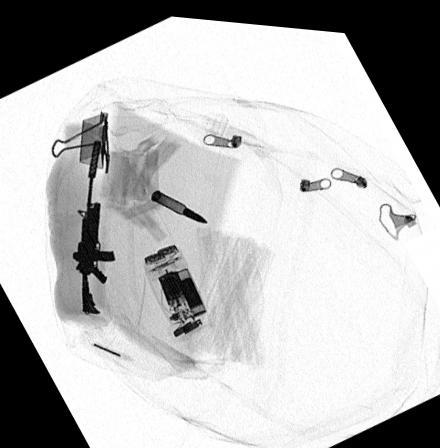Bullet: (149, 185, 208, 217)
Gun: (71, 135, 116, 310)
